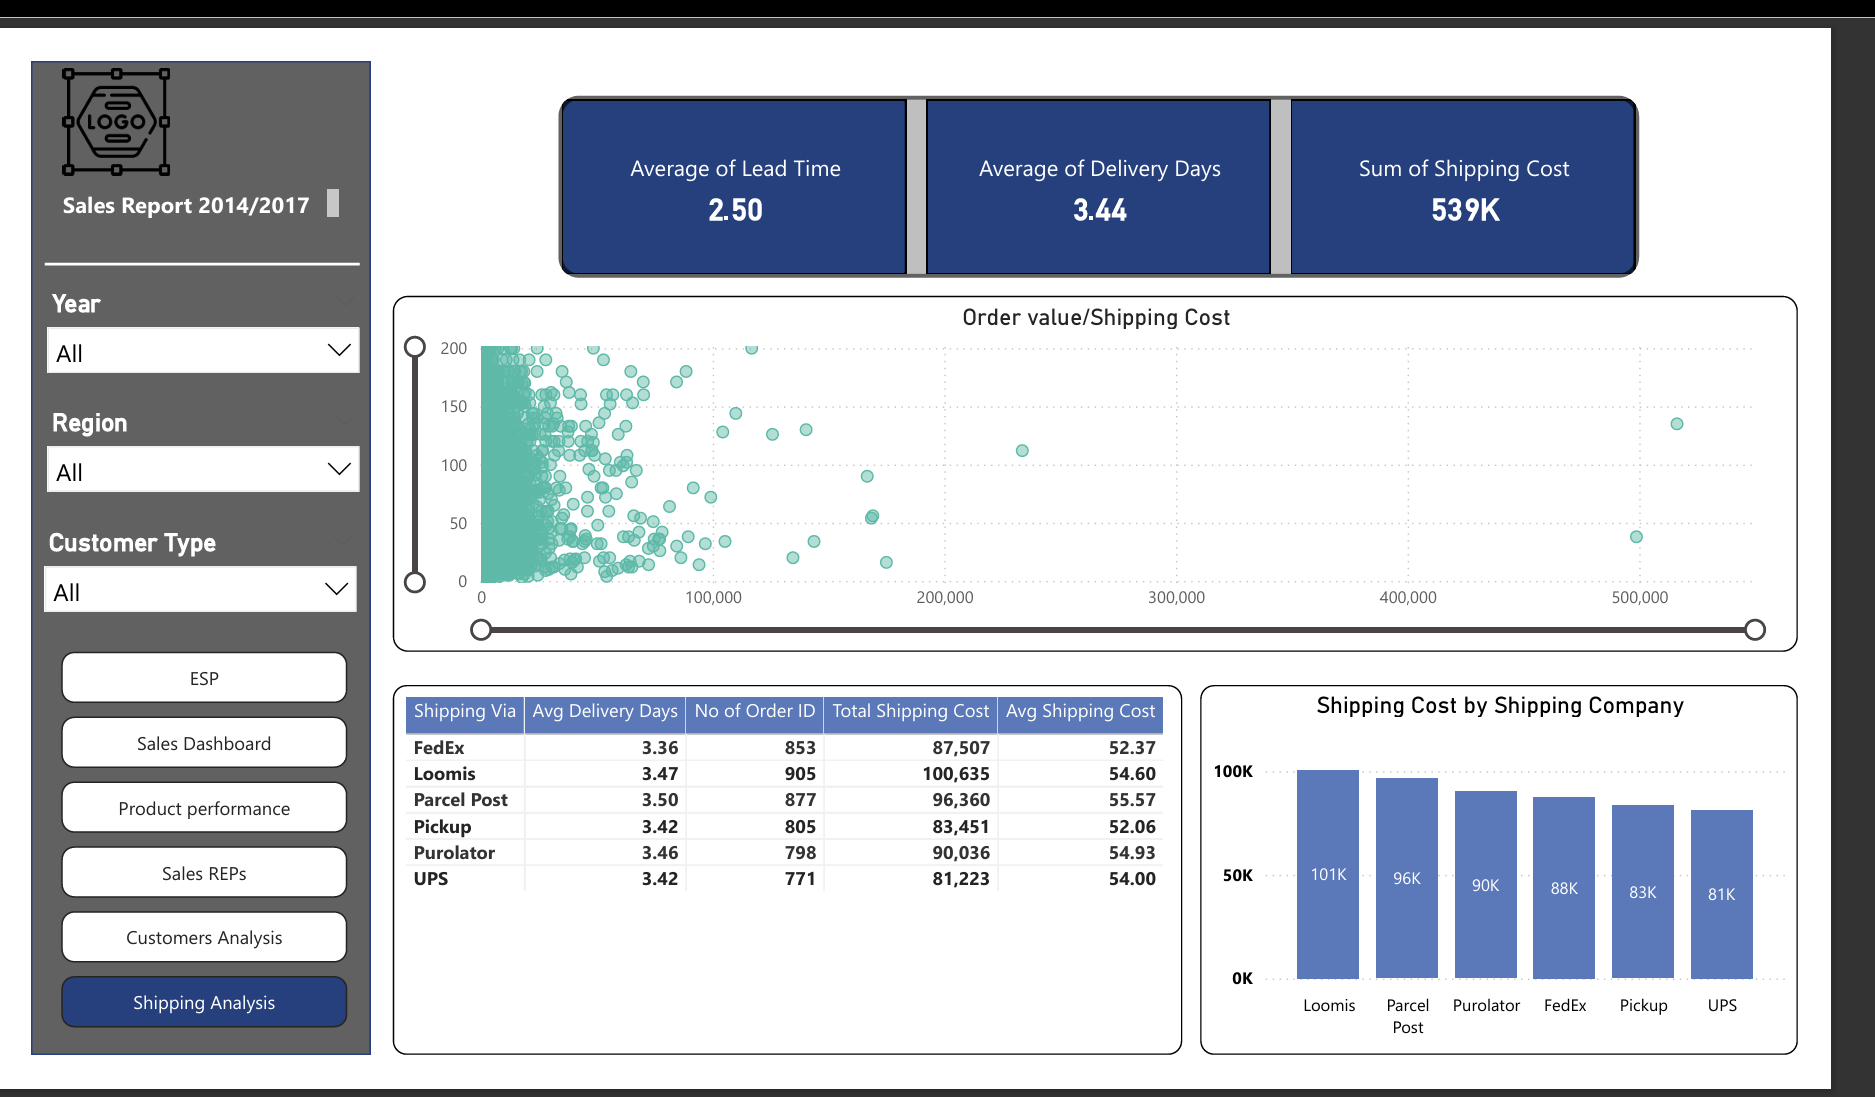

What the dashboard file says about the page in this screenshot:
{"tool":"powerbi","page":{"name":"Shipping Analysis","canvas":[1280,720],"ordinal":5},"visuals":[{"type":"tableEx","fields":{"Values":["Orders.Shipping Via","Avg(Orders.Delivery Days)","CountNonNull(Orders.Order ID)","Sum(Orders_details.Shipping Cost)","Avg(Orders_details.Shipping Cost)"]},"box":[262.1,452.2,571.7,267.8],"z":0},{"type":"shape","box":[0.4,0,246,720],"z":1000},{"type":"group","id":"g1","title":"Group 2","box":[0,0,248,702.7],"z":2000},{"type":"cardVisual","fields":{"Data":["Avg(Orders.Lead Time)","Avg(Orders.Delivery Days)","Sum(Orders_details.Shipping Cost)"]},"box":[376.7,20,793.3,141.7],"z":3000},{"type":"pageNavigator","box":[21.6,427.7,207.4,275],"z":3000,"group":"g1"},{"type":"image","box":[0,0,124,88],"z":4000,"group":"g2"},{"type":"scatterChart","title":"Order value/Shipping Cost","fields":{"X":["Orders_details.Total Sales"],"Y":["Sum(Orders_details.Shipping Cost)"]},"box":[262.1,169.9,1018.1,257.8],"z":4000},{"type":"textbox","box":[18,88,210,30],"z":5000,"group":"g2"},{"type":"clusteredColumnChart","title":"Shipping Cost by Shipping Company","fields":{"Category":["Orders.Shipping Via"],"Y":["Sum(Orders_details.Shipping Cost)"]},"box":[846.7,451.7,433.3,268.3],"z":5000},{"type":"group","id":"g2","title":"Group 1","box":[0,0,248,322],"z":5001,"group":"g1"},{"type":"shape","box":[10,134,228,26],"z":6000,"group":"g2"},{"type":"slicer","fields":{"Values":["Orders.OrderDate.Variation.Date Hierarchy.Year"]},"box":[2,160,246,76],"z":7000,"group":"g2"},{"type":"slicer","fields":{"Values":["Shipping.Region"]},"box":[2,246,246,76],"z":8000,"group":"g2"},{"type":"slicer","fields":{"Values":["Customers.Customer Type"]},"box":[0,332.6,246.2,76.3],"z":8000}]}

Visuals, with their boxes on the page's 1280x720 design canvas (x1, y1, x2, y2). These are canvas units, not pixel positions in the 1875x1097 screenshot, which may show the page scaled, cropped or inside an application window:
tableEx - Orders.Shipping Via x Avg(Orders.Delivery Days): x1=262 y1=452 x2=834 y2=720
shape: x1=0 y1=0 x2=246 y2=720
"Group 2" group: x1=0 y1=0 x2=248 y2=703
cardVisual - Avg(Orders.Lead Time) x Avg(Orders.Delivery Days): x1=377 y1=20 x2=1170 y2=162
pageNavigator: x1=22 y1=428 x2=229 y2=703
image: x1=0 y1=0 x2=124 y2=88
"Order value/Shipping Cost" scatterChart: x1=262 y1=170 x2=1280 y2=428
textbox: x1=18 y1=88 x2=228 y2=118
"Shipping Cost by Shipping Company" clusteredColumnChart: x1=847 y1=452 x2=1280 y2=720
"Group 1" group: x1=0 y1=0 x2=248 y2=322
shape: x1=10 y1=134 x2=238 y2=160
slicer - Orders.OrderDate.Variation.Date Hierarchy.Year: x1=2 y1=160 x2=248 y2=236
slicer - Shipping.Region: x1=2 y1=246 x2=248 y2=322
slicer - Customers.Customer Type: x1=0 y1=333 x2=246 y2=409
